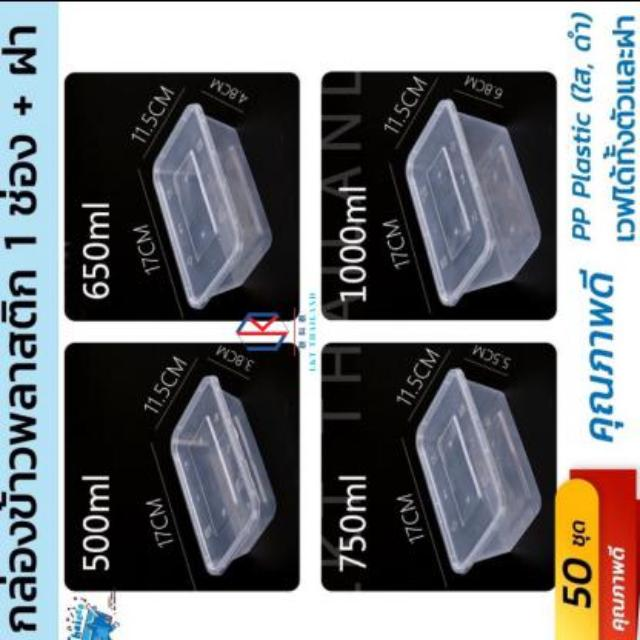plastic_box: (406, 95, 542, 305), (417, 366, 541, 570), (152, 99, 272, 305), (172, 375, 278, 575)
